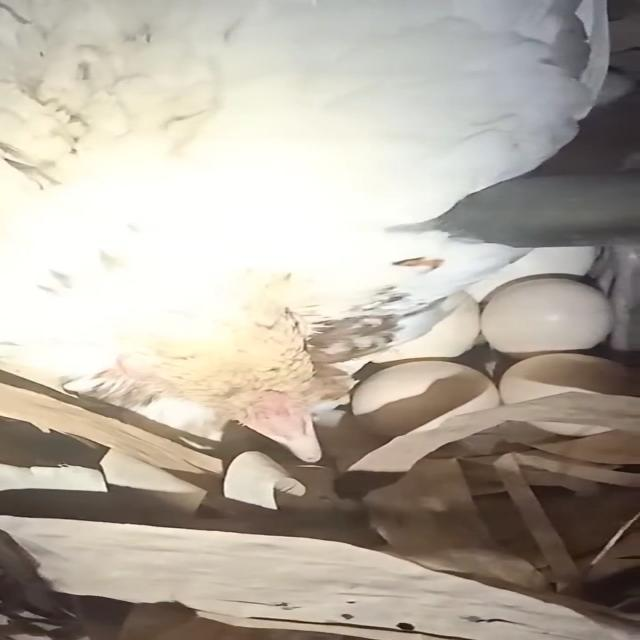crouch chicken: (0, 0, 640, 487)
